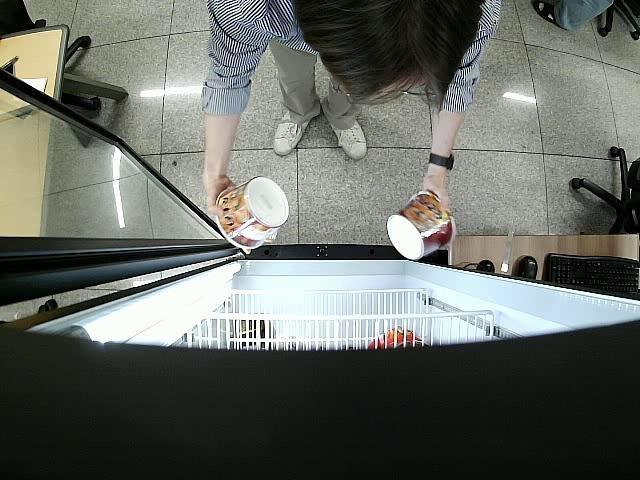05_nuguri_L: (215, 174, 288, 248), (389, 192, 462, 258)
